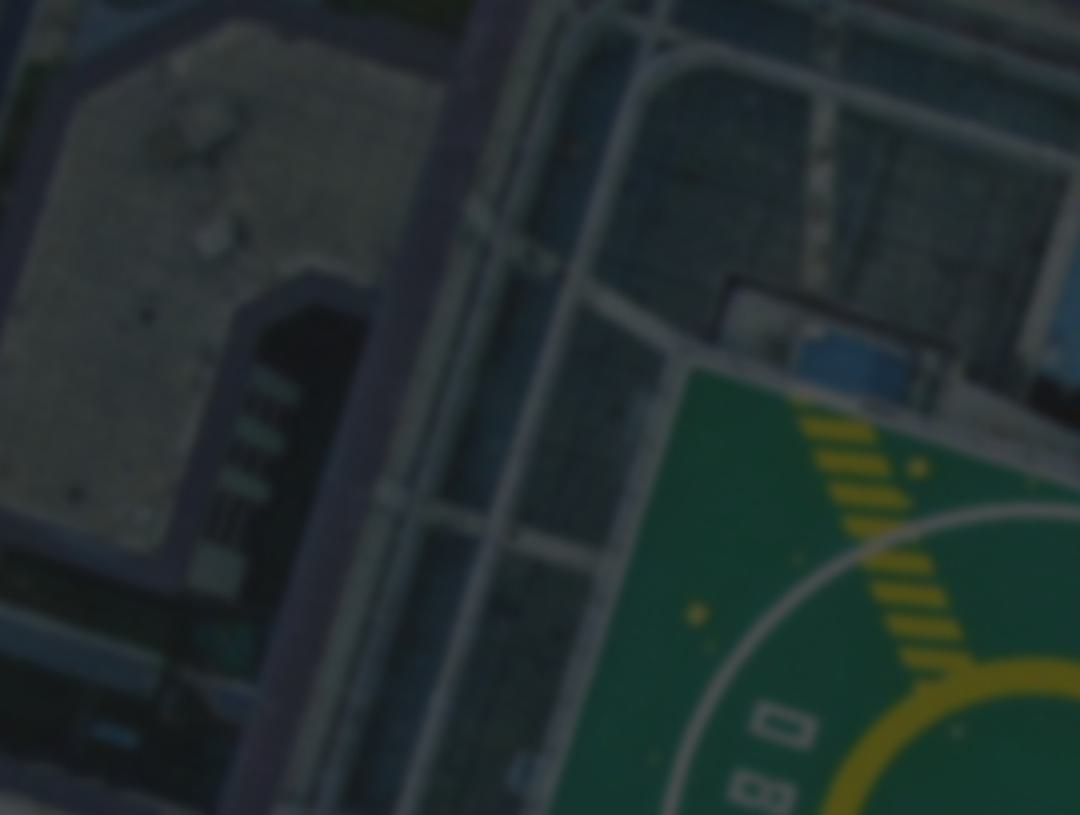Apron: (784, 635, 1080, 815)
